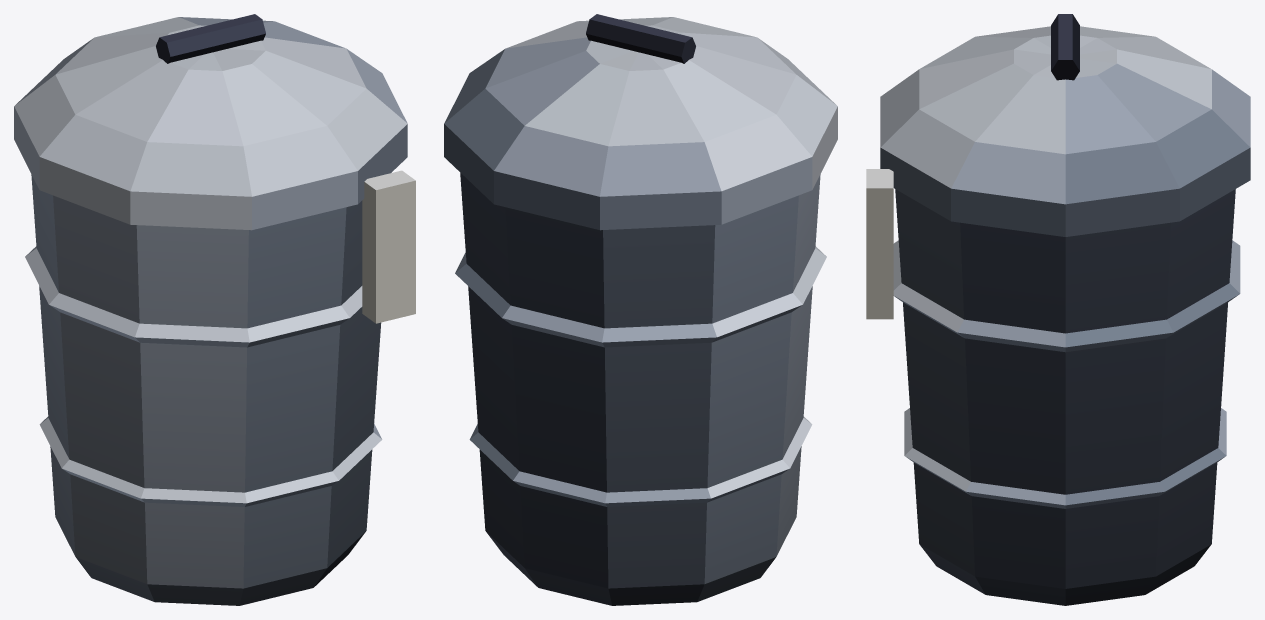
Rendered from trash_can.glb.
3 renders of one model, left to right at view 1: azimuth 30°, elevation 25°; view 2: azimuth 150°, elevation 25°; view 3: azimuth 270°, elevation 25°, orthographic.
Visible parts, largest first — view 1: trash_can; view 2: trash_can; view 3: trash_can.
Boxes of the visible parts, box(x1,y1,x2,y2) form: trash_can: box(14, 14, 415, 605); trash_can: box(444, 14, 837, 605); trash_can: box(866, 14, 1250, 605).
Size of the model in its own units: 0.4945 by 0.7174 by 0.4881.
